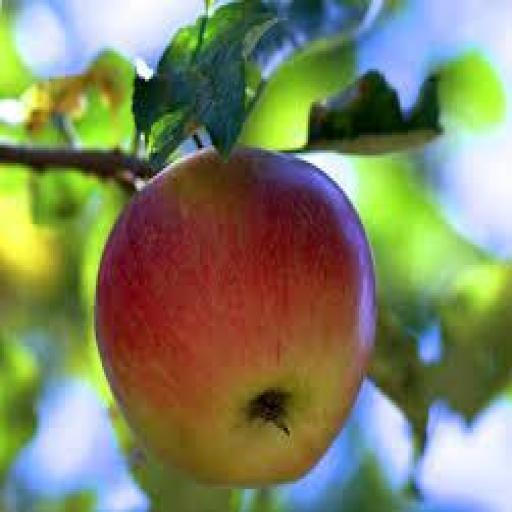apple: (96, 148, 375, 486)
